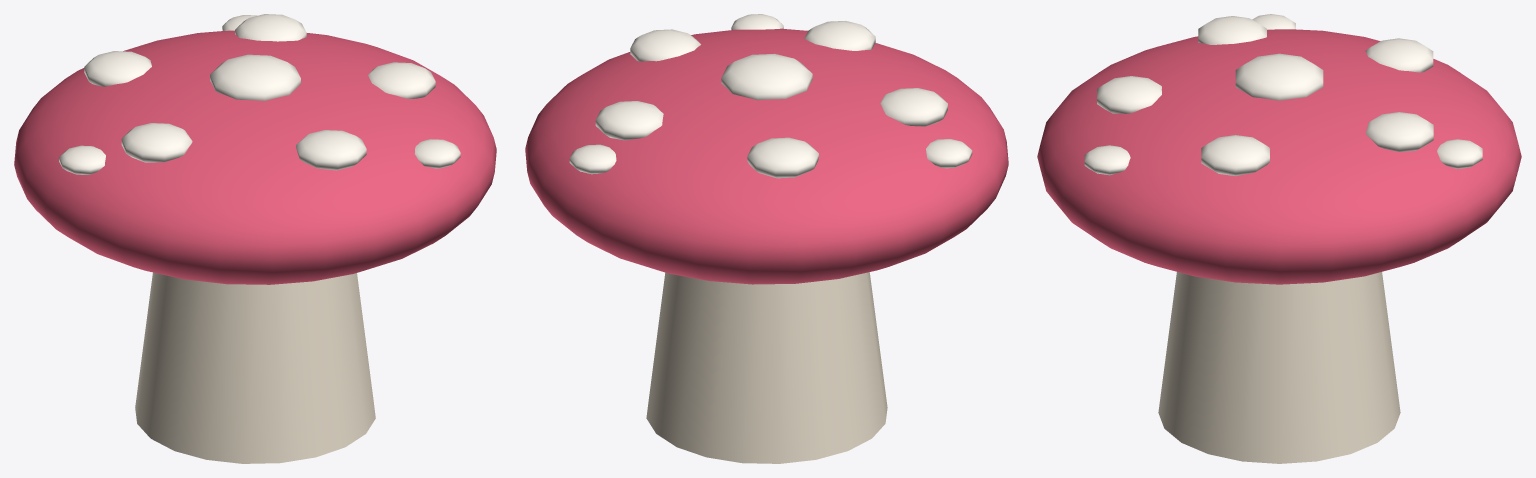
File: chair-stool.glb
3 renders of one model, left to right at view 1: azimuth 30°, elevation 25°; view 2: azimuth 150°, elevation 25°; view 3: azimuth 270°, elevation 25°, orthographic.
Bounding box in the file's own units: 0.72 × 0.574 × 0.72.
